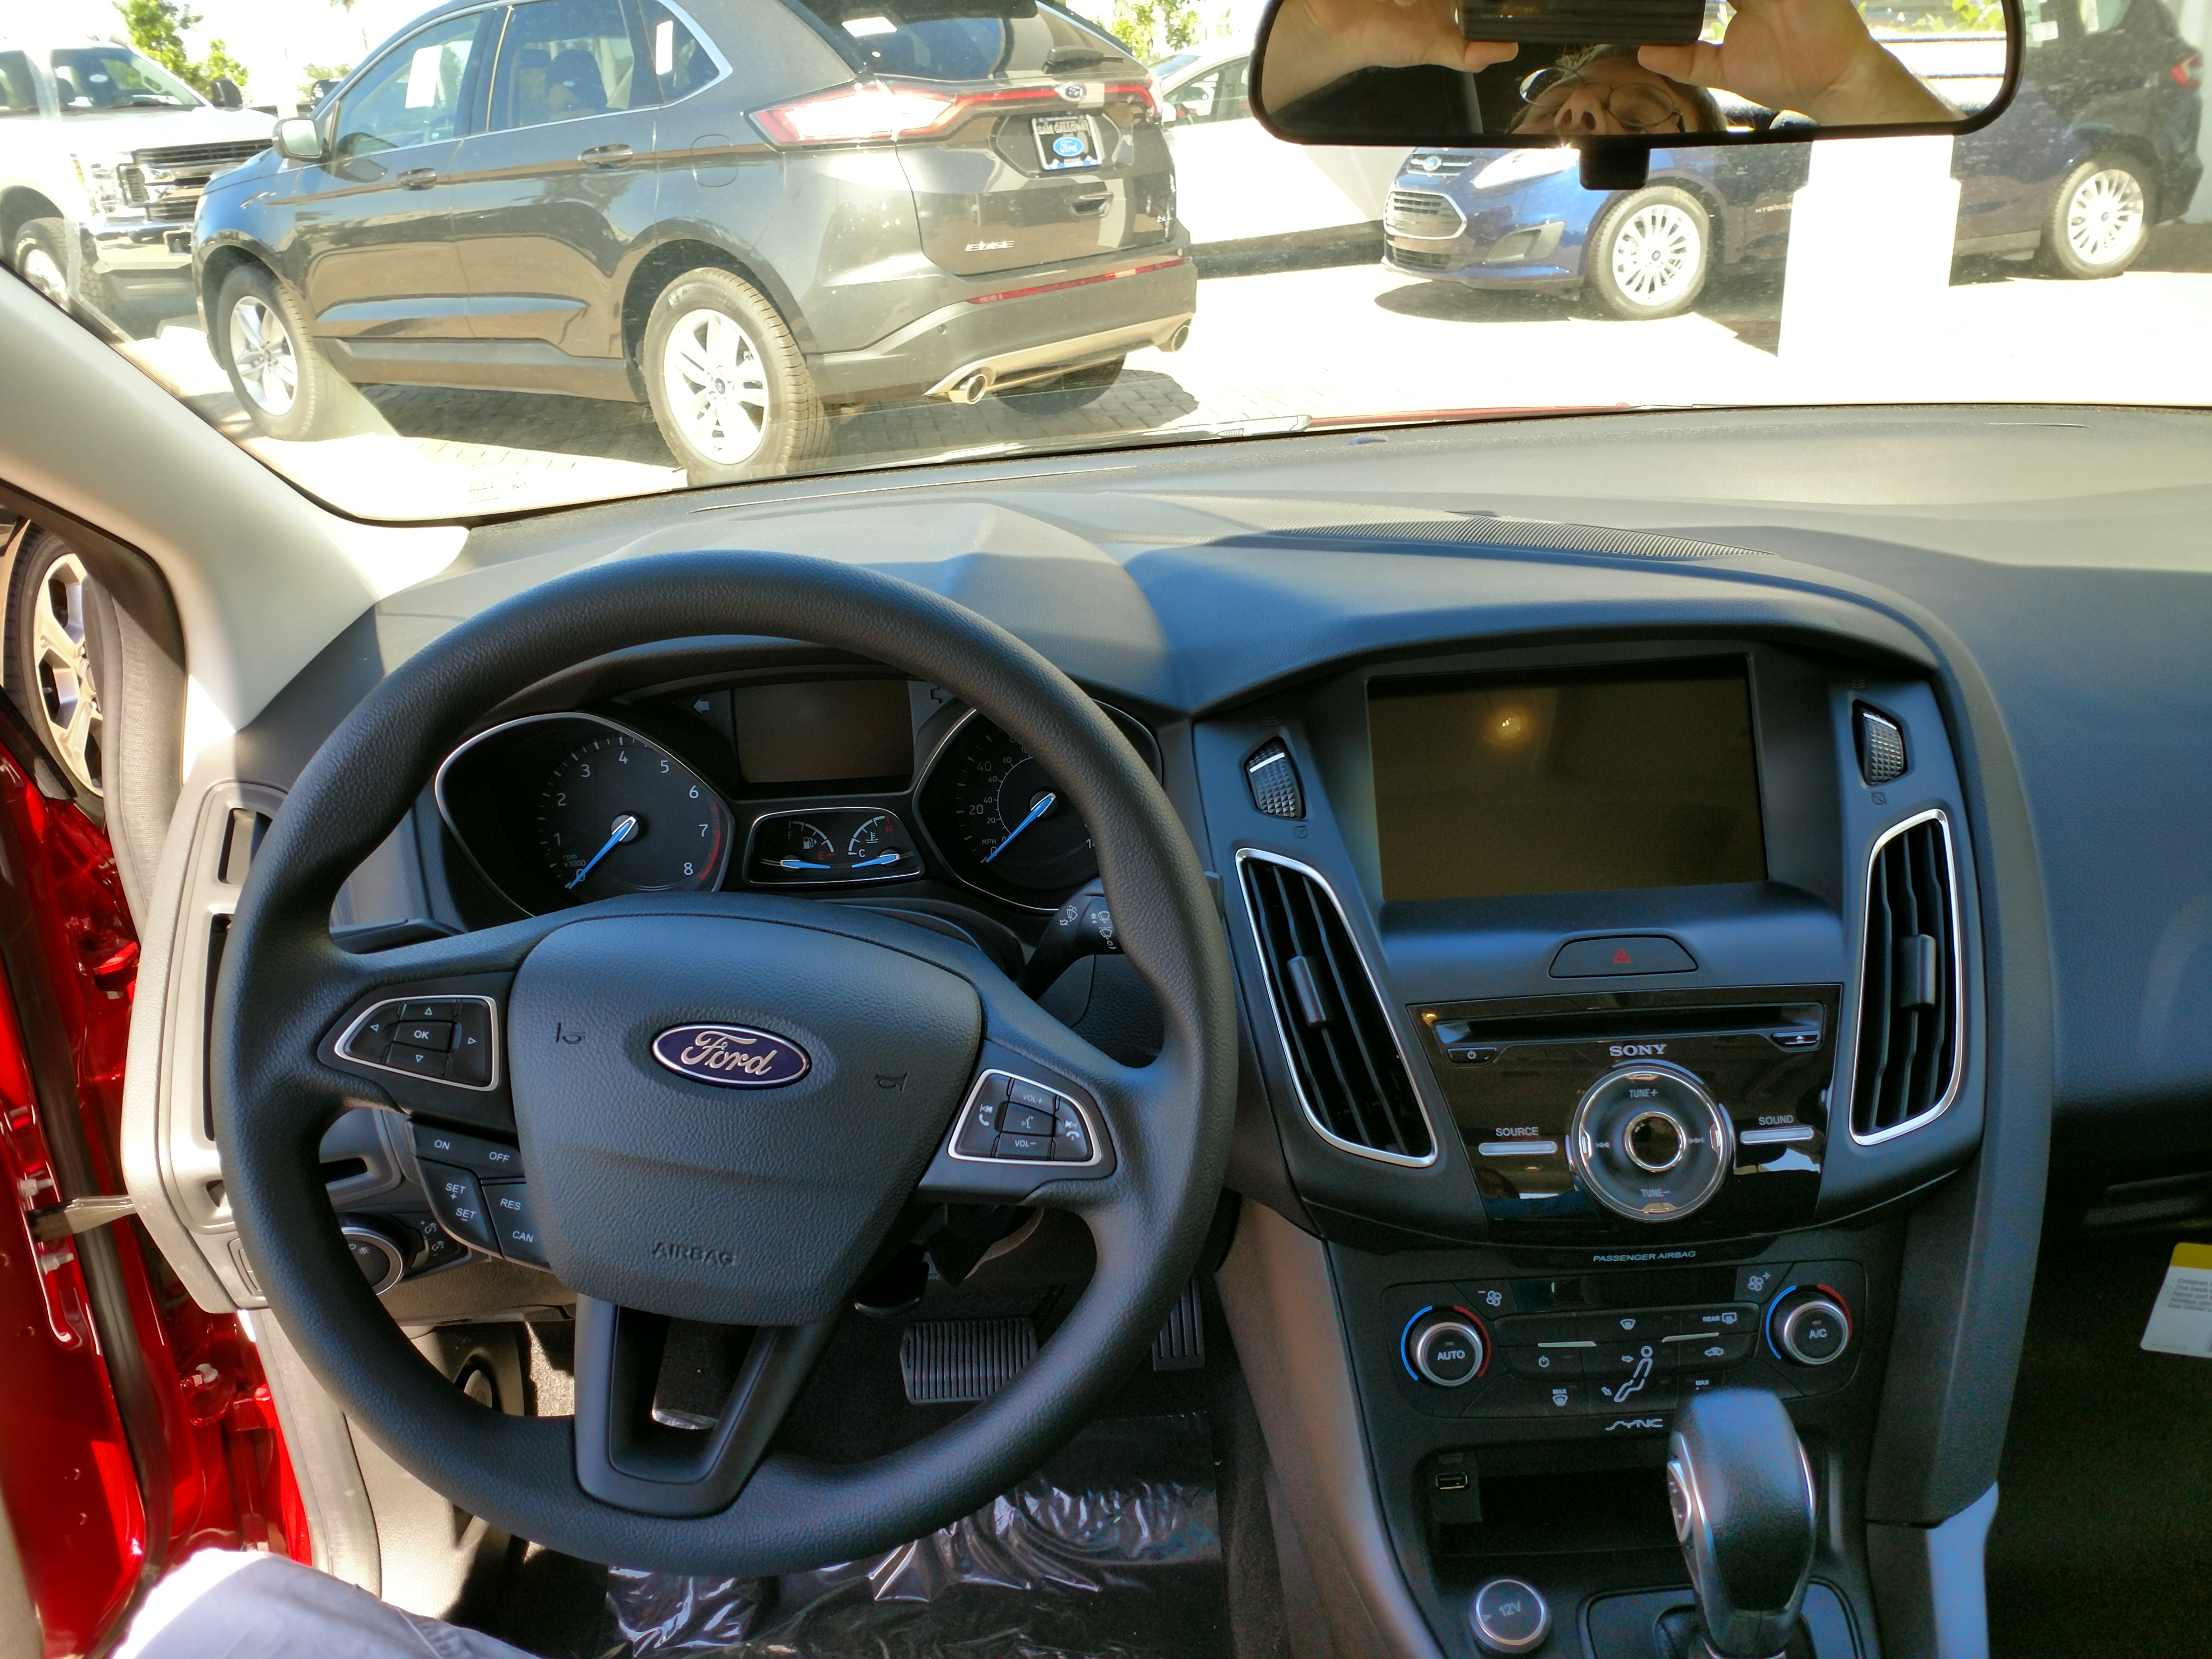Ford: (644, 1016, 827, 1098)
